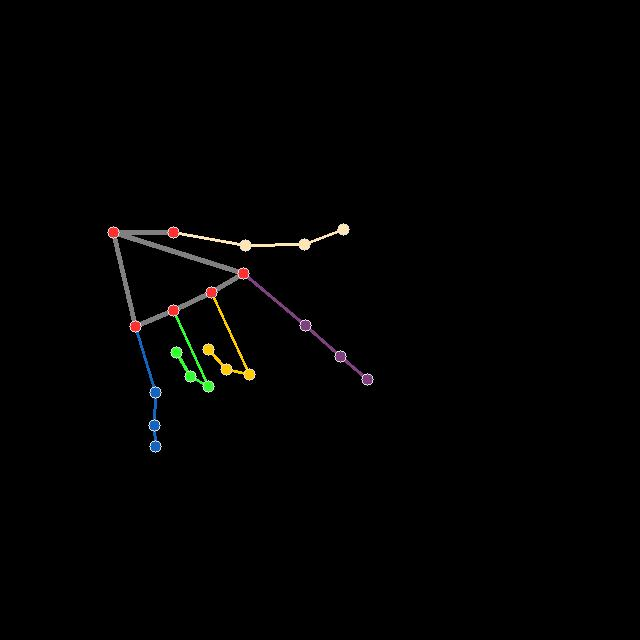spiderman: (108, 221, 374, 455)
